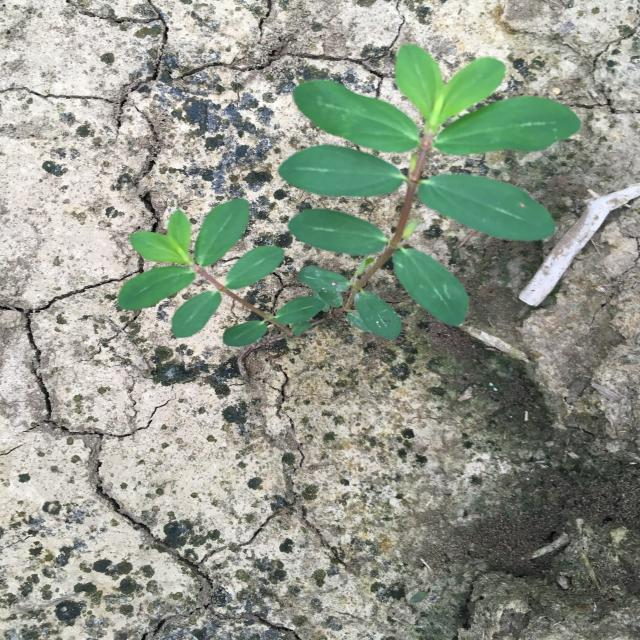SpottedSpurge: (118, 45, 581, 346)
